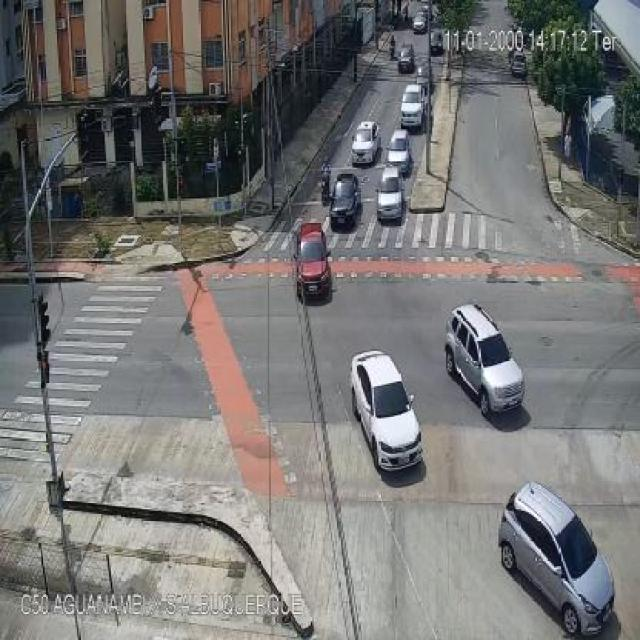Car: (496, 479, 616, 636), (447, 305, 527, 416), (351, 351, 423, 472), (294, 224, 332, 299), (328, 172, 361, 225), (376, 170, 406, 222), (350, 120, 380, 164), (399, 85, 425, 130), (386, 130, 412, 172), (415, 64, 431, 97), (397, 45, 415, 73), (510, 51, 528, 78), (429, 28, 444, 54), (412, 11, 428, 34)
